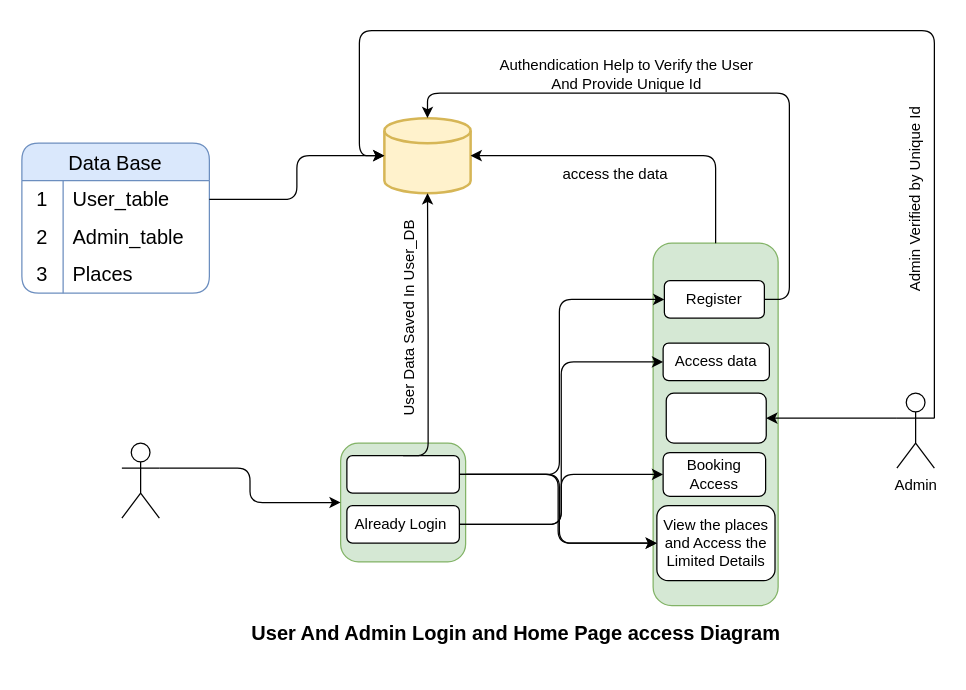
Image size: 966x690. Some labels were removed from this diagram. Here are the shapes that lost their labels. From the top down, the centre of each, then its label:
At pixel 426 155: "Main DB".
At pixel 715 417: "Modify and Re-Upload".
At pixel 140 480: "User".
At pixel 402 473: "New User".
